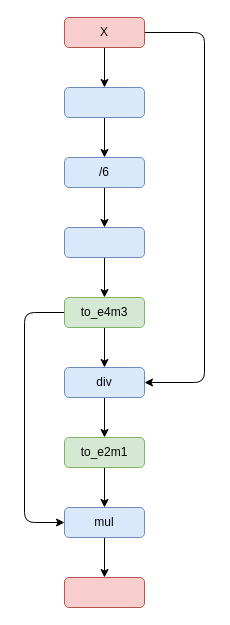
This 230x625 diagram has some shape labels left out. The shapes that lost their labels are listed below. From the top down, each one's box as (x1, y1, x2, y2) in pixels, then its label:
(64, 86, 144, 118): abs(X)
(64, 226, 144, 258): Clip(0, 448)
(64, 576, 144, 608): output
